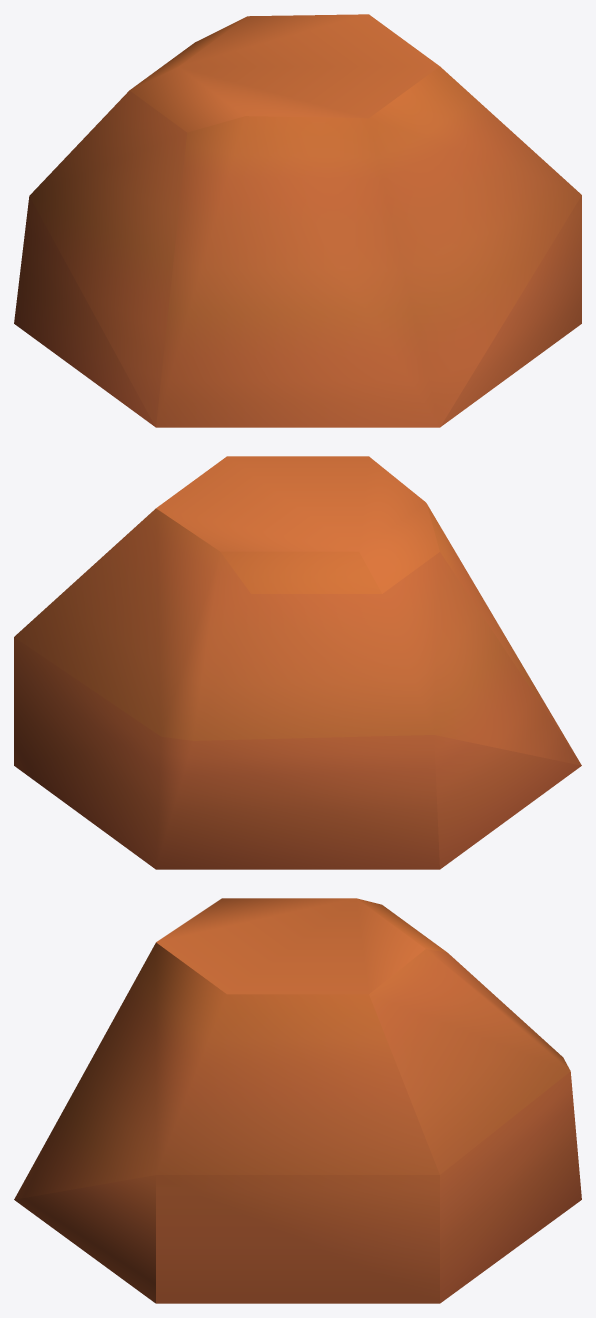
The model's file is kay-rocha-marte-b.gltf.
The picture shows the model from 3 angles, top to bottom: view 1: azimuth 30°, elevation 25°; view 2: azimuth 150°, elevation 25°; view 3: azimuth 270°, elevation 25°; orthographic projection.
Parts seen in each view (by area): view 1: rock_B; view 2: rock_B; view 3: rock_B.
Boxes of the visible parts, x1,y1,x2,y2 form: rock_B: (14,14,581,427); rock_B: (14,456,581,869); rock_B: (14,898,581,1303).
Bounding box in the file's own units: 1.81 × 1.04 × 2.09.
1 material, 1 textured.
